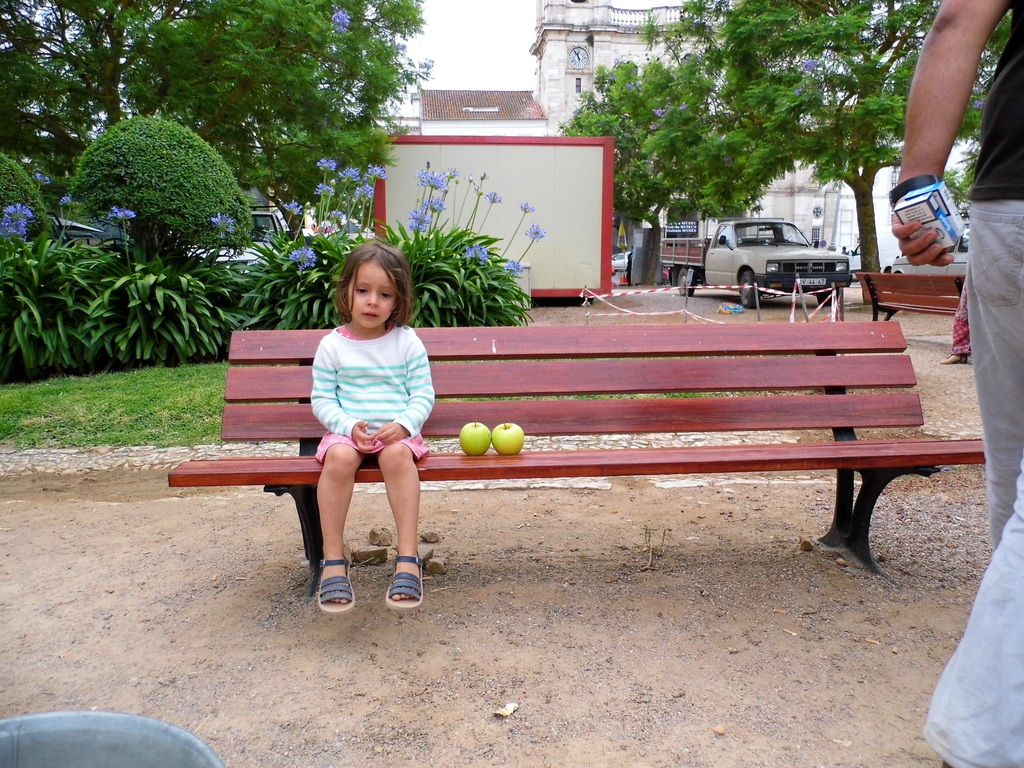Human-face: (349, 262, 396, 328)
